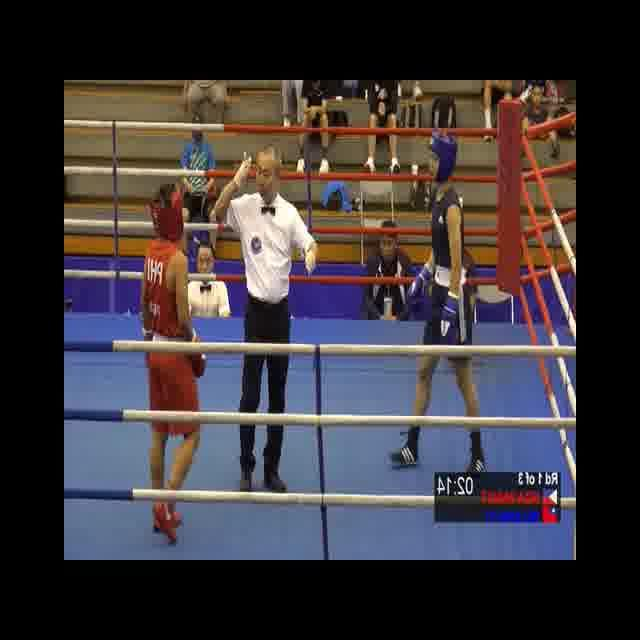blue-player: (389, 128, 487, 477)
red-player: (138, 181, 206, 547)
referee: (212, 140, 320, 504)
